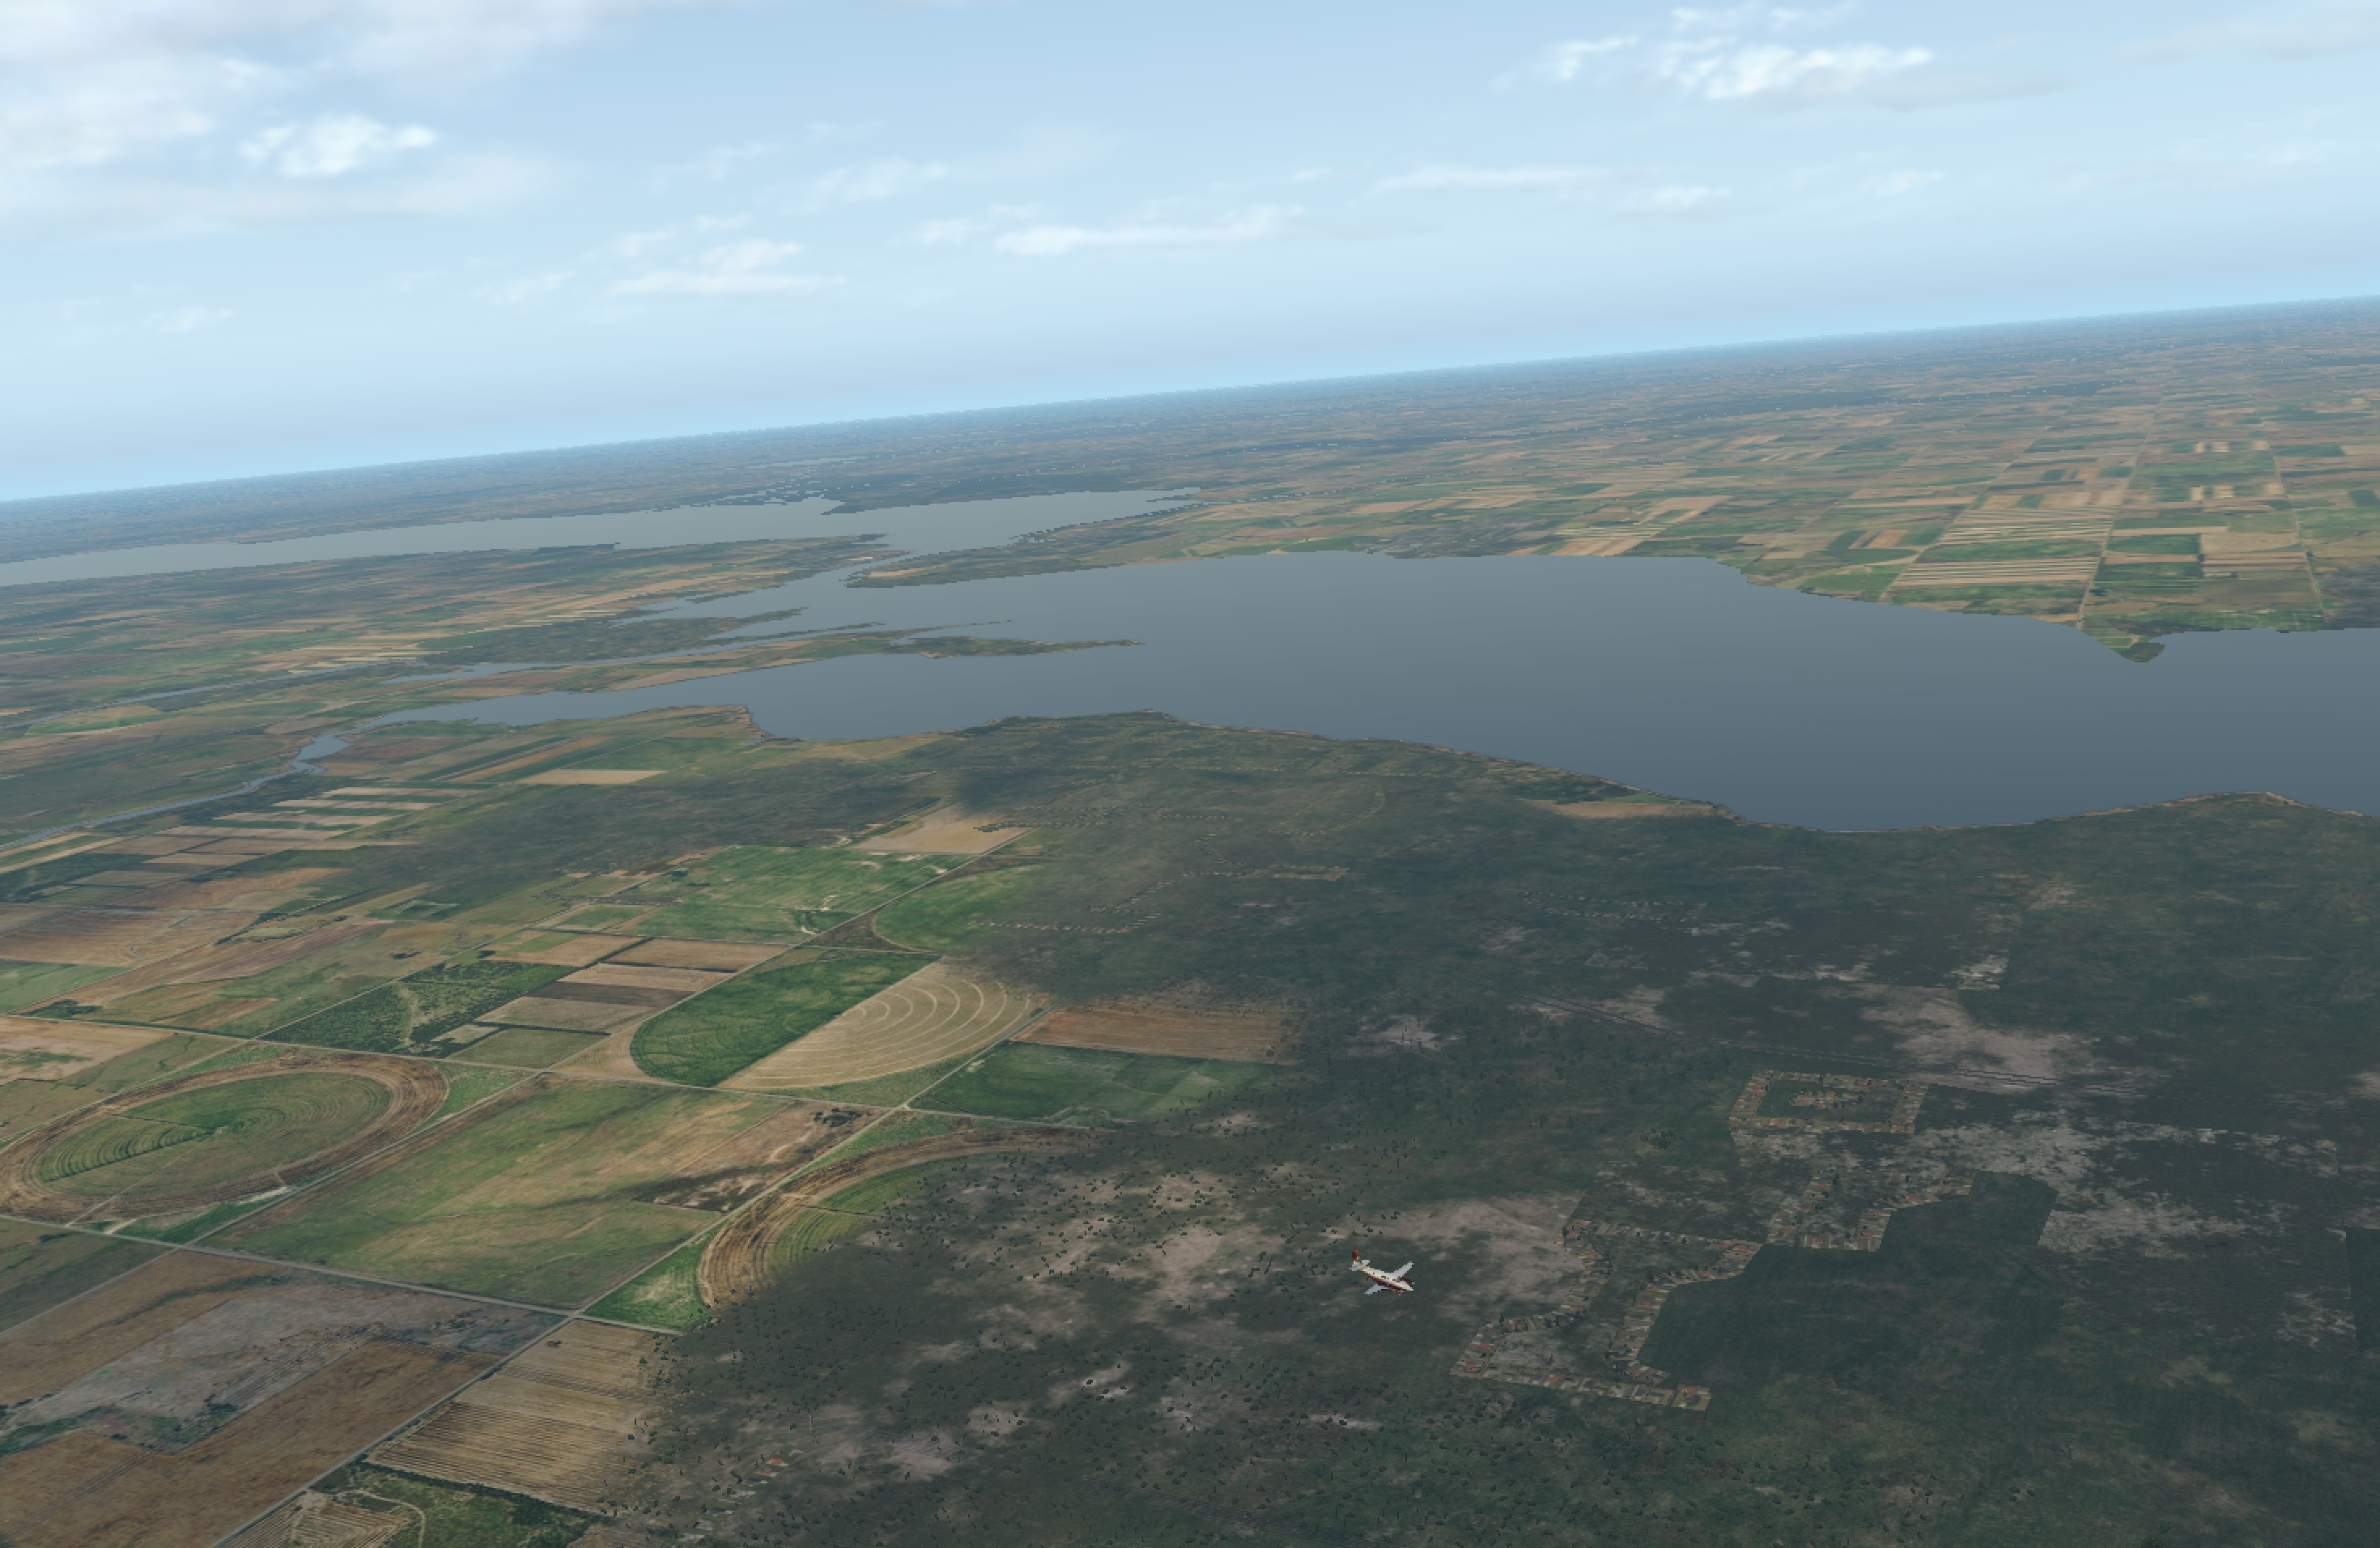aircraft: (1341, 1267, 1442, 1303)
